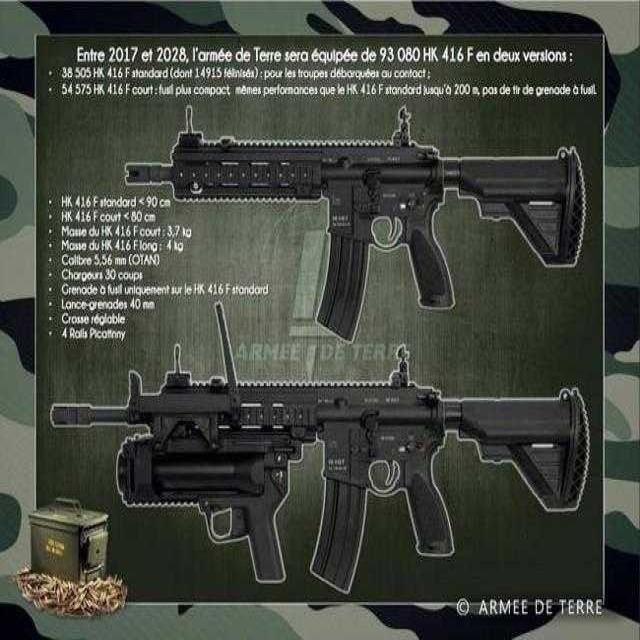heavyweapon: (120, 100, 605, 344)
